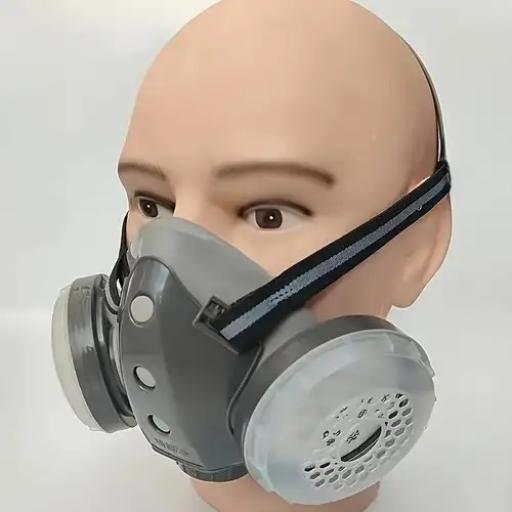mask: (32, 216, 422, 500)
